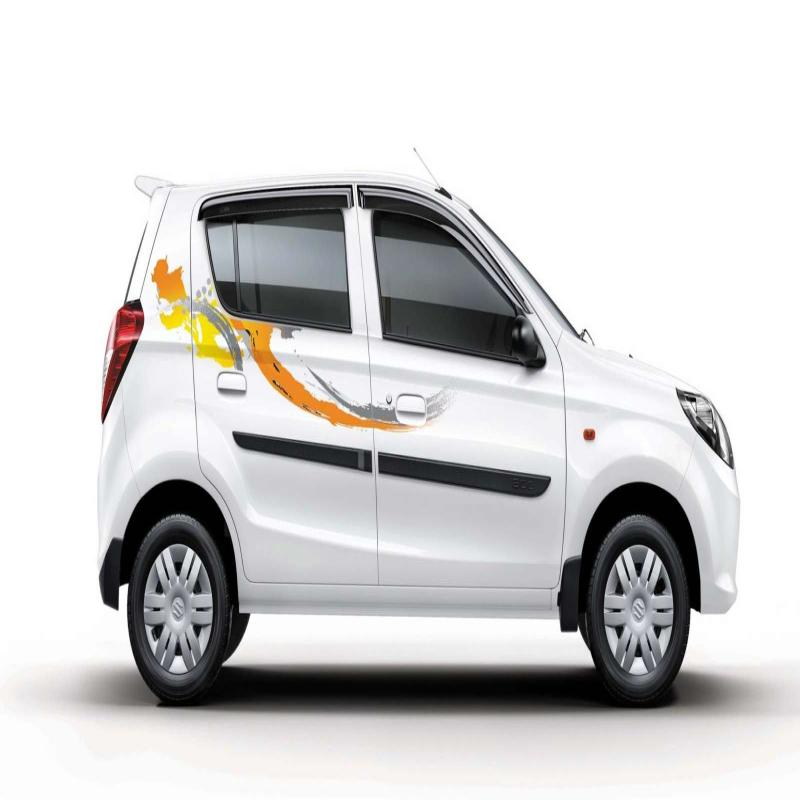car: (77, 149, 764, 754)
